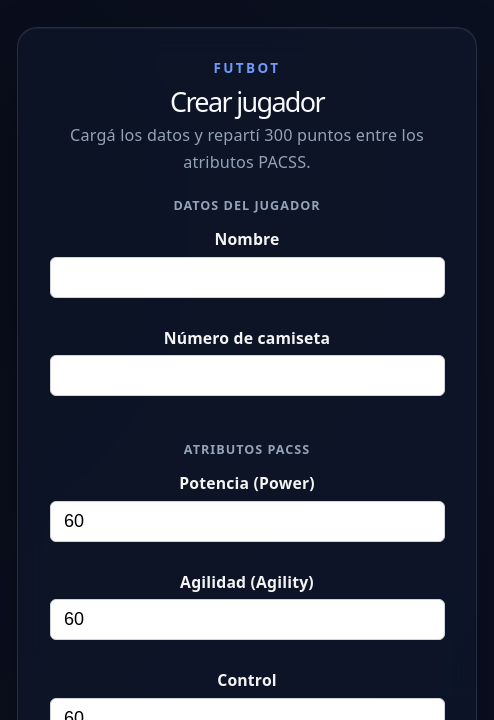
CreatePlayerPage › Validaciones del frontend › Con un atributo fuera de rango (20-100) muestra el error y no llama al backend
Type "Lionel Messi" into the field with id "name" at (247, 277), box [50,256,444,298]
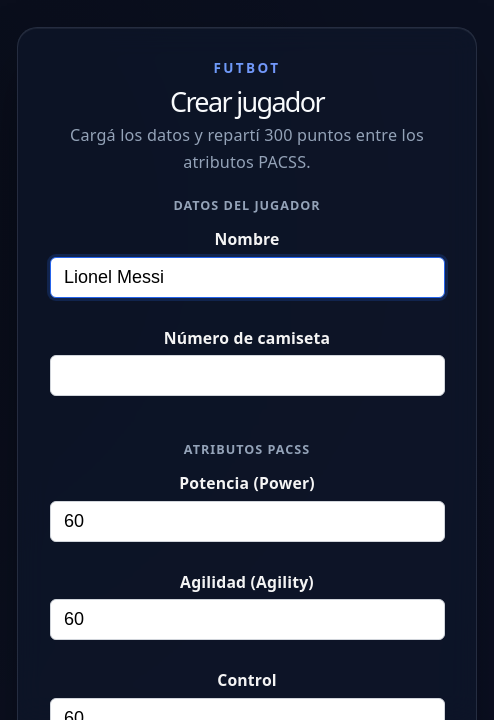
Type "10" into the number field with id "number" at (247, 376), box [50,355,444,396]
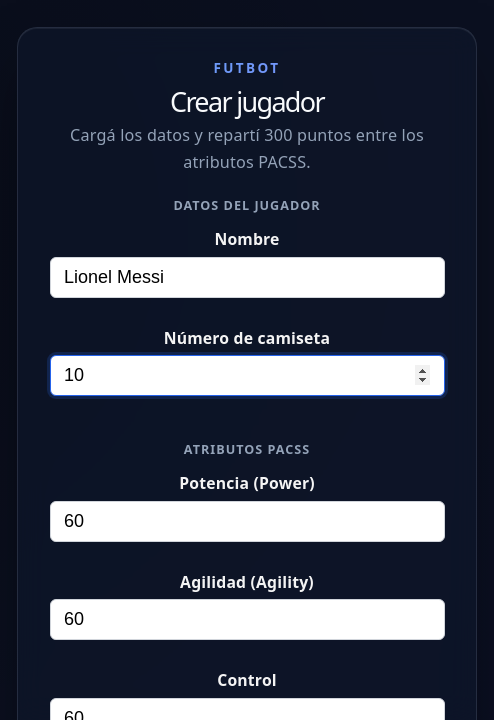
Replace the text in the number field labelled "Potencia (Power)" with "10" at (247, 521), box [50,500,444,542]
(page scrolled)
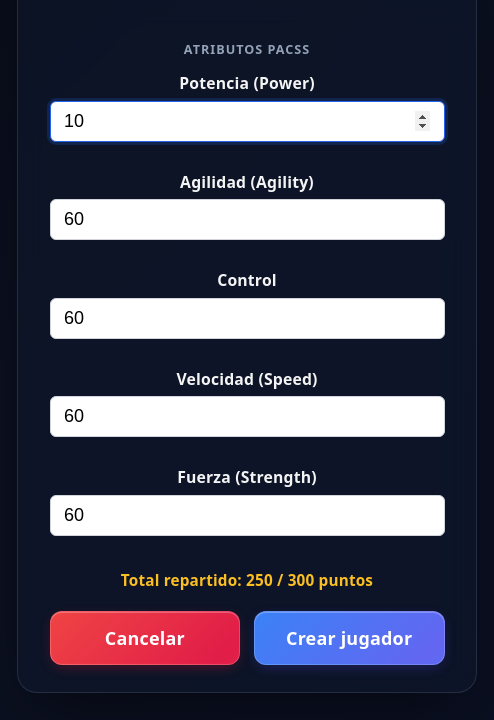
Click the button "Crear jugador" at (349, 638), box [254,612,445,665]
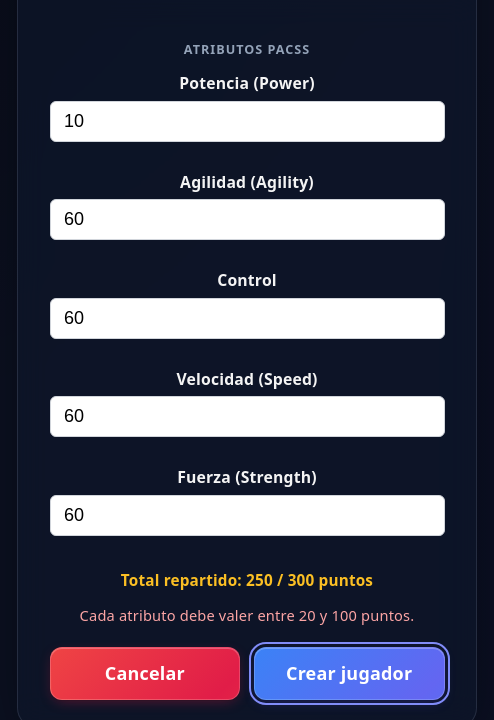
Expected: the text "Cada atributo debe valer entre 20 y 100 puntos." is shown, [80,606,414,626]
